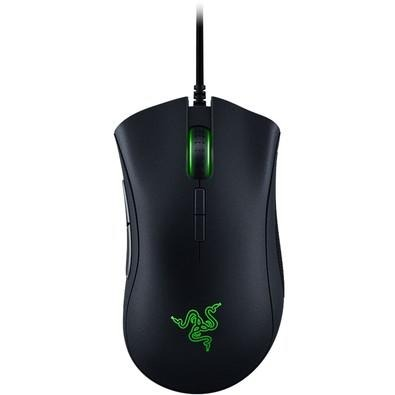mouse: (100, 94, 292, 393)
